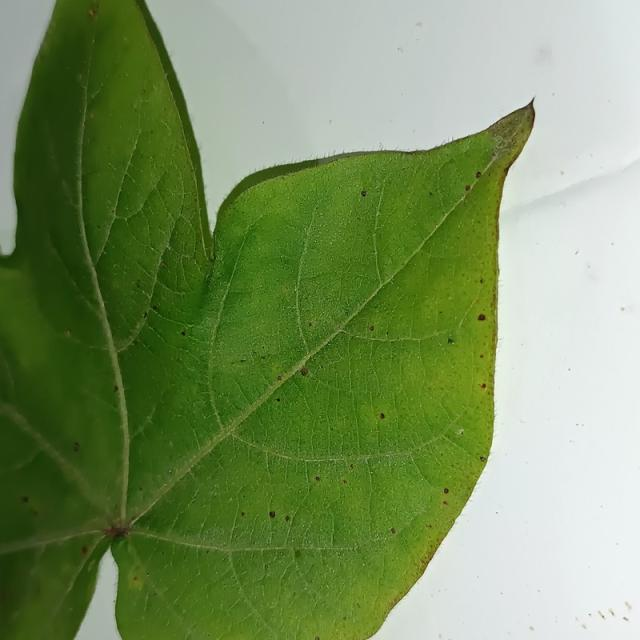Bacterial_Blight: (110, 526, 129, 540), (374, 407, 390, 421), (264, 506, 280, 520), (300, 362, 308, 380), (89, 8, 98, 20), (293, 548, 302, 559), (525, 111, 533, 123), (73, 441, 80, 452), (477, 313, 486, 321), (21, 495, 29, 503), (475, 171, 482, 179), (81, 546, 88, 554), (447, 337, 454, 344), (360, 191, 367, 197), (390, 527, 396, 534), (113, 385, 119, 392), (479, 456, 486, 462), (143, 311, 148, 319), (465, 185, 471, 191), (443, 488, 449, 494), (152, 305, 158, 311), (285, 515, 290, 522), (459, 428, 464, 435), (369, 325, 374, 331), (277, 375, 282, 381), (275, 397, 280, 403), (481, 383, 486, 389), (349, 463, 354, 469), (181, 331, 186, 336), (315, 476, 320, 481), (342, 479, 347, 484), (443, 501, 448, 506), (480, 278, 484, 284), (308, 322, 312, 327), (429, 191, 433, 196), (133, 576, 137, 581), (241, 512, 245, 517), (480, 354, 484, 359), (314, 637, 320, 640)
Cotton: (0, 0, 532, 639)
